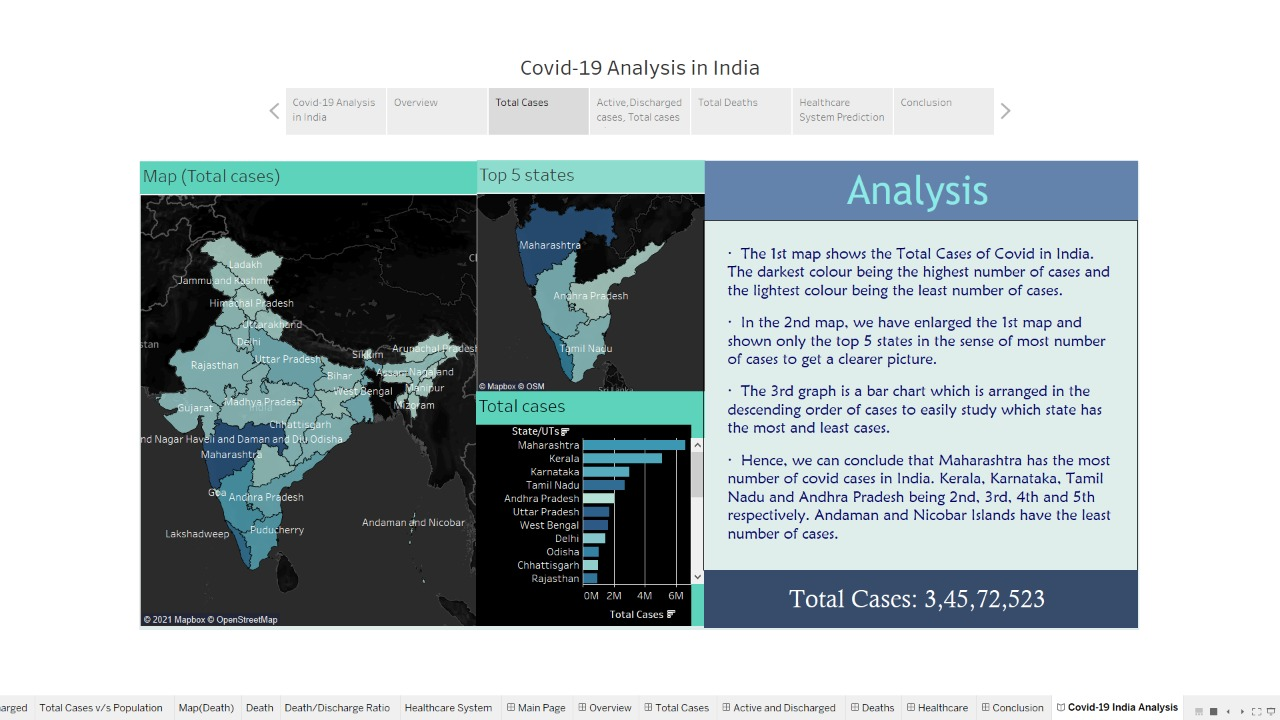

The dashboard page shown, as its layout file describes it:
{"tool":"tableau","page":{"name":"Total Cases","canvas":[1500,700],"ordinal":6},"visuals":[{"type":"worksheet","title":"Map (Total cases)","mark":"Automatic","box":[0,0,506,698]},{"type":"text","box":[1057,8,220,70]},{"type":"text","box":[845,88,652,526]},{"type":"worksheet","title":"Total cases","mark":"Automatic","rows":["State/UTs"],"cols":["Total Cases"],"box":[504,345,343,352]},{"type":"text","box":[970,613,392,65]}]}

Visuals, with their boxes on the page's 1500x700 design canvas (x1, y1, x2, y2). These are canvas units, not pixel positions in the 1280x720 screenshot, which may show the page scaled, cropped or inside an application window:
"Map (Total cases)" worksheet: {"x1": 0, "y1": 0, "x2": 506, "y2": 698}
text: {"x1": 1057, "y1": 8, "x2": 1277, "y2": 78}
text: {"x1": 845, "y1": 88, "x2": 1497, "y2": 614}
"Total cases" worksheet: {"x1": 504, "y1": 345, "x2": 847, "y2": 697}
text: {"x1": 970, "y1": 613, "x2": 1362, "y2": 678}
